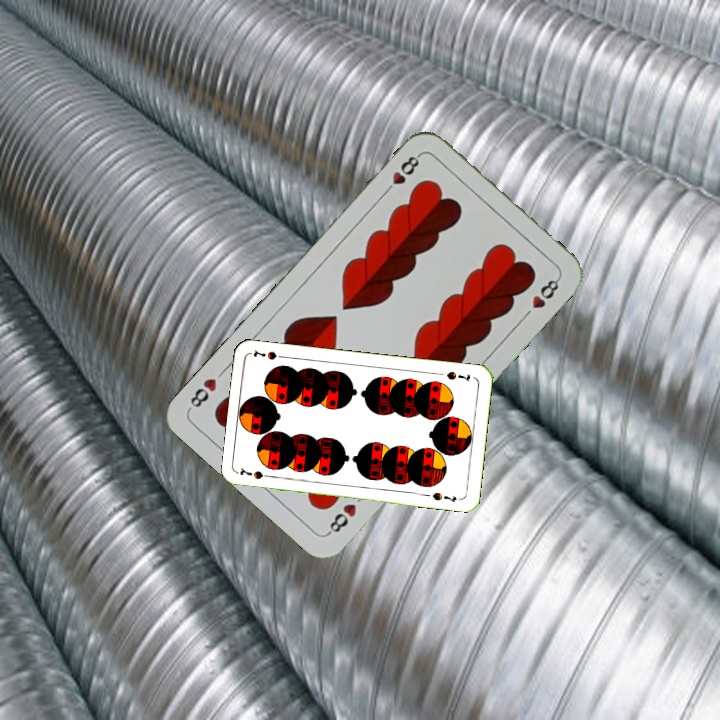H8: (379, 150, 424, 198), (323, 499, 359, 538)
S7: (236, 464, 276, 482), (442, 367, 473, 384)
